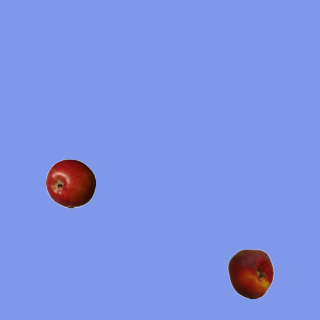Apple Braeburn: (45, 158, 95, 208)
Nectarine Flat: (225, 248, 275, 298)
